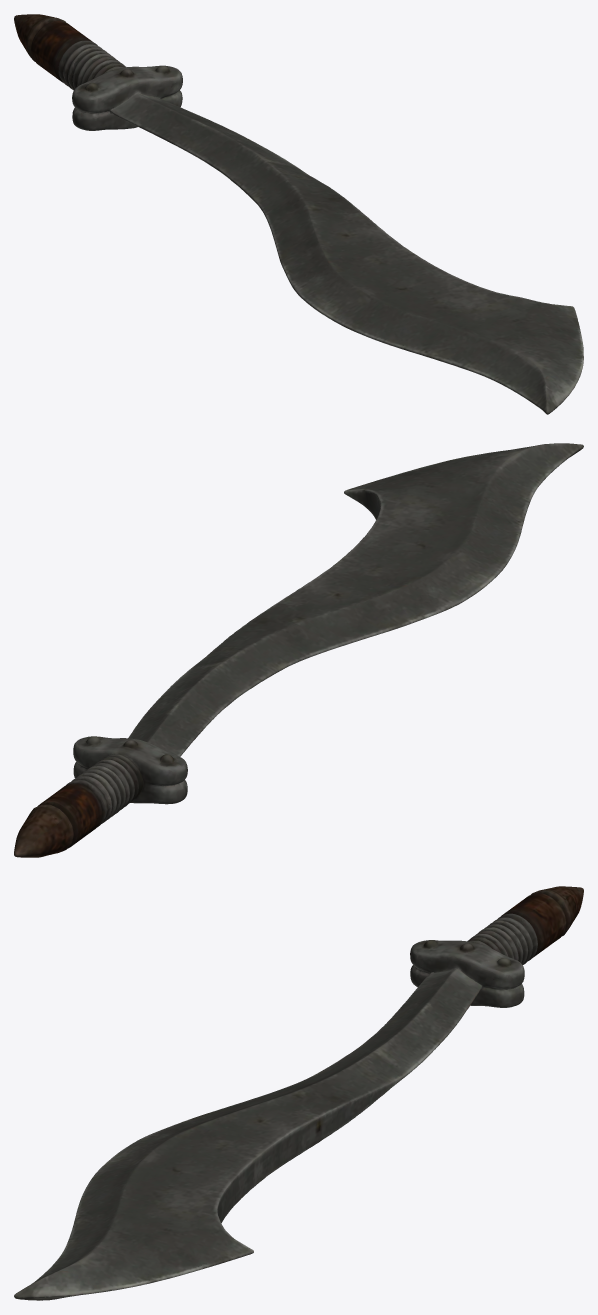
File: cleaver.glb
3 renders of one model, top to bottom at view 1: azimuth 30°, elevation 25°; view 2: azimuth 150°, elevation 25°; view 3: azimuth 330°, elevation 25°, orthographic. The views are drawn at different scales.
Visible parts, largest first — view 1: world; view 2: world; view 3: world.
Part boxes in pixels (<box>): world: <box>14,14,583,414</box>; world: <box>14,443,583,857</box>; world: <box>14,886,583,1300</box>.
Size of the model in its own units: 0.2091 by 0.0576 by 1.
1 material, 1 textured.
